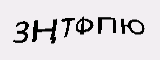З: (12, 21, 31, 44)
П: (96, 16, 117, 35)
Т: (59, 17, 76, 38)
Ф: (75, 15, 94, 35)
Ю: (119, 17, 148, 36)
Ң: (29, 18, 57, 44)
